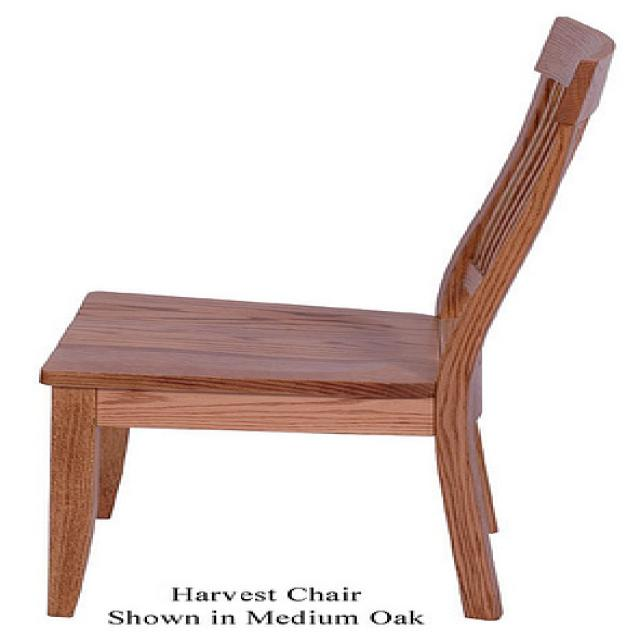chair: (39, 15, 616, 621)
